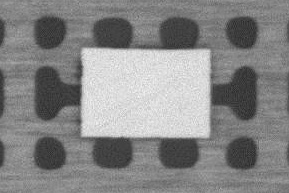DIE_CRACK: (99, 92, 152, 128)
